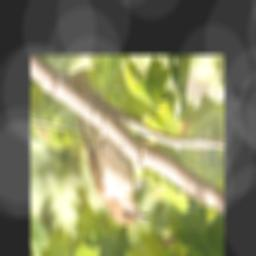Cuckoo: (70, 67, 150, 228)
